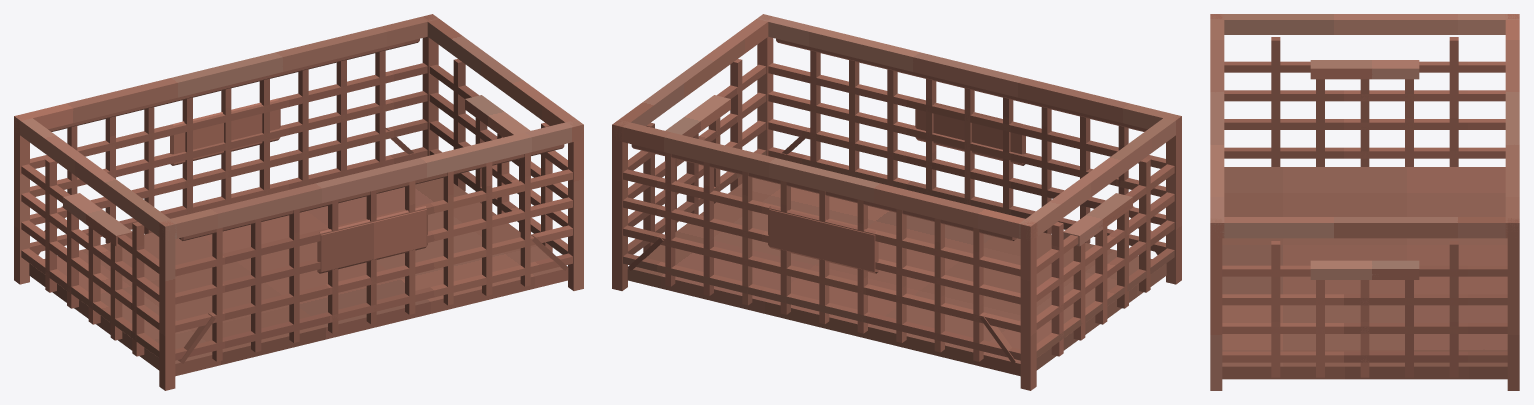
Rendered from crate-red.glb.
The picture shows the model from 3 angles, left to right: view 1: azimuth 30°, elevation 25°; view 2: azimuth 150°, elevation 25°; view 3: azimuth 270°, elevation 25°; orthographic projection. The views are drawn at different scales.
Parts seen in each view (by area): view 1: crate-red/solid-base, crate-red/top-long-rim--1, crate-red/top-long-rim-1, crate-red/detail-moulded-panel--1, crate-red/long-band--1-0, crate-red/long-band--1-1, crate-red/top-end-rim--1, crate-red/long-band-1-3, crate-red/top-end-rim-1, crate-red/long-band-1-2, crate-red/long-band--1-3, crate-red/long-band-1-1 (+43 smaller); view 2: crate-red/solid-base, crate-red/top-long-rim-1, crate-red/top-long-rim--1, crate-red/detail-moulded-panel-1, crate-red/long-band-1-1, crate-red/long-band-1-0, crate-red/top-end-rim--1, crate-red/long-band--1-3, crate-red/top-end-rim-1, crate-red/long-band-1-3, crate-red/long-band--1-2, crate-red/long-band--1-1 (+43 smaller); view 3: crate-red/solid-base, crate-red/top-end-rim-1, crate-red/top-end-rim--1, crate-red/end-band-1-0, crate-red/end-band-1-2, crate-red/end-band--1-2, crate-red/end-band--1-0, crate-red/top-long-rim--1, crate-red/top-long-rim-1, crate-red/end-band-1-1, crate-red/end-band--1-1, crate-red/corner-1-0 (+15 smaller).
Part boxes in pixels (x1,y1,x2,y2): crate-red/solid-base: (29, 177, 568, 376); crate-red/top-long-rim--1: (158, 120, 583, 238); crate-red/top-long-rim-1: (14, 14, 438, 129); crate-red/detail-moulded-panel--1: (317, 206, 427, 273); crate-red/long-band--1-0: (175, 253, 572, 360); crate-red/long-band--1-1: (175, 225, 572, 332); crate-red/top-end-rim--1: (14, 116, 176, 240); crate-red/long-band-1-3: (30, 63, 427, 168); crate-red/top-end-rim-1: (421, 15, 583, 142); crate-red/long-band-1-2: (30, 91, 427, 196); crate-red/long-band--1-3: (175, 169, 572, 276); crate-red/long-band-1-1: (30, 119, 427, 224); crate-red/solid-base: (627, 177, 1166, 376); crate-red/top-long-rim-1: (612, 120, 1037, 238); crate-red/top-long-rim--1: (757, 14, 1181, 129); crate-red/detail-moulded-panel-1: (768, 206, 878, 273); crate-red/long-band-1-1: (623, 225, 1020, 332); crate-red/long-band-1-0: (623, 253, 1020, 360); crate-red/top-end-rim--1: (1019, 117, 1181, 238); crate-red/long-band--1-3: (768, 63, 1165, 168); crate-red/top-end-rim-1: (614, 15, 772, 141); crate-red/long-band-1-3: (623, 169, 1020, 276); crate-red/long-band--1-2: (768, 91, 1165, 196); crate-red/long-band--1-1: (768, 119, 1165, 224); crate-red/solid-base: (1222, 167, 1507, 379); crate-red/top-end-rim-1: (1212, 217, 1519, 238); crate-red/top-end-rim--1: (1210, 14, 1519, 34); crate-red/end-band-1-0: (1222, 351, 1507, 362); crate-red/end-band-1-2: (1222, 294, 1507, 305); crate-red/end-band--1-2: (1224, 90, 1505, 101); crate-red/end-band--1-0: (1224, 147, 1505, 158); crate-red/top-long-rim--1: (1210, 14, 1224, 238); crate-red/top-long-rim-1: (1505, 14, 1519, 238); crate-red/end-band-1-1: (1222, 323, 1507, 333); crate-red/end-band--1-1: (1224, 119, 1505, 129); crate-red/corner-1-0: (1210, 218, 1222, 390).
Size of the model in its own units: 0.5 by 0.1875 by 0.3125.
Materials: 1 (1 with a texture image).
